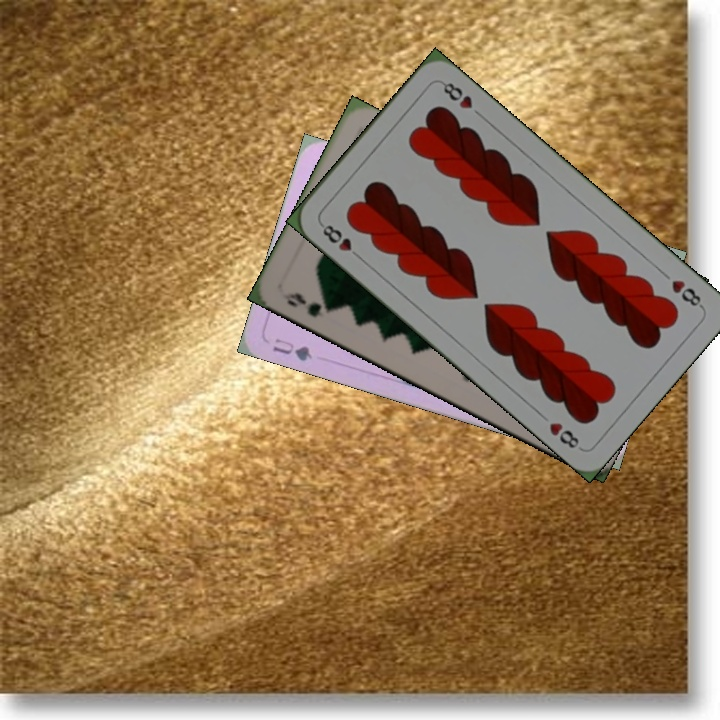G9: (277, 288, 337, 321)
GU: (268, 334, 315, 364)
H8: (316, 219, 365, 263), (667, 275, 706, 311)
